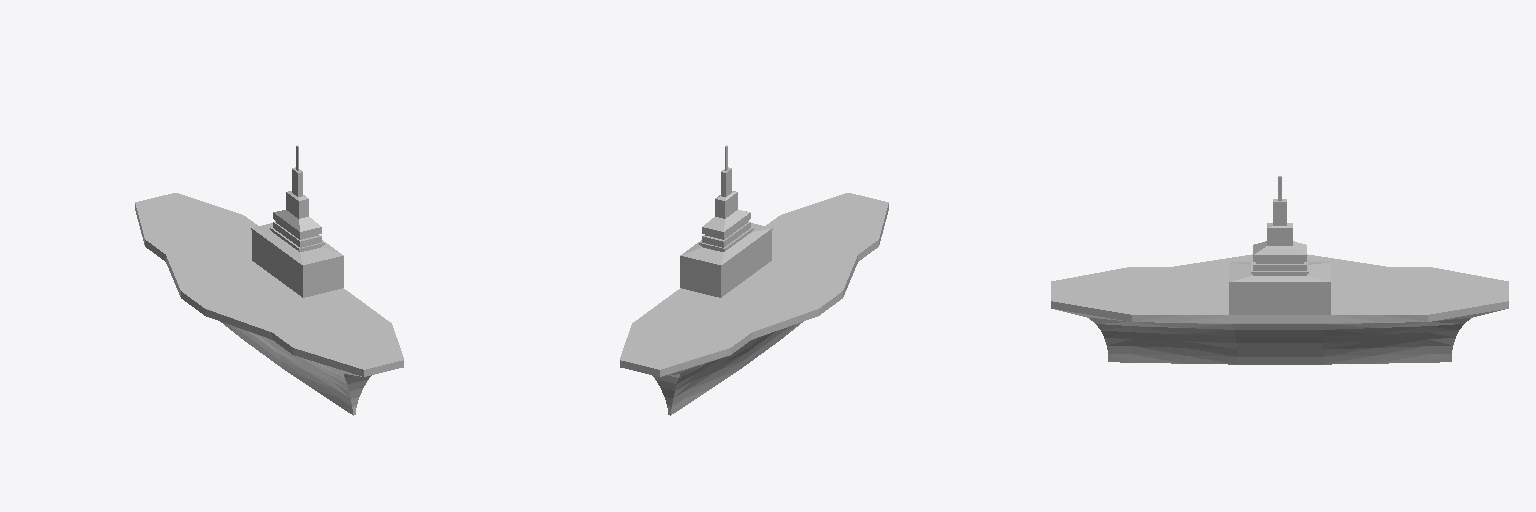
The model's file is Porte-Avion.obj.
3 views of the same model, side by side, from view 1: azimuth 30°, elevation 25°; view 2: azimuth 150°, elevation 25°; view 3: azimuth 270°, elevation 25° (orthographic).
Visible parts, largest first — view 1: Porte-Avion; view 2: Porte-Avion; view 3: Porte-Avion.
Part boxes in pixels (x1,y1,x2,y2): Porte-Avion: (135,145,403,415); Porte-Avion: (620,145,888,415); Porte-Avion: (1051,176,1508,364).
Bounding box in the file's own units: 85.86 × 130 × 270.